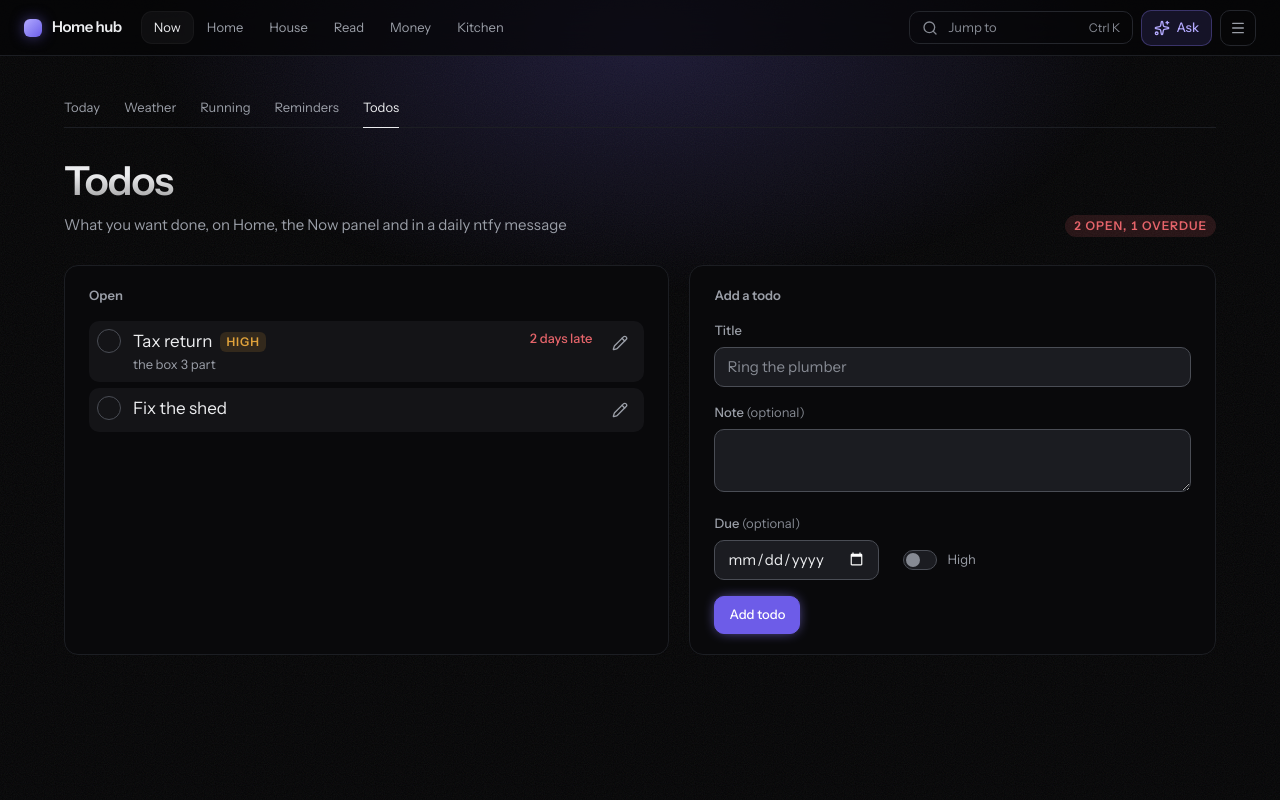
Test: TodosPage › changes a todo and says why a write failed
Click the button named "Change Tax return".
click(620, 343)  # box [604,327,636,359]
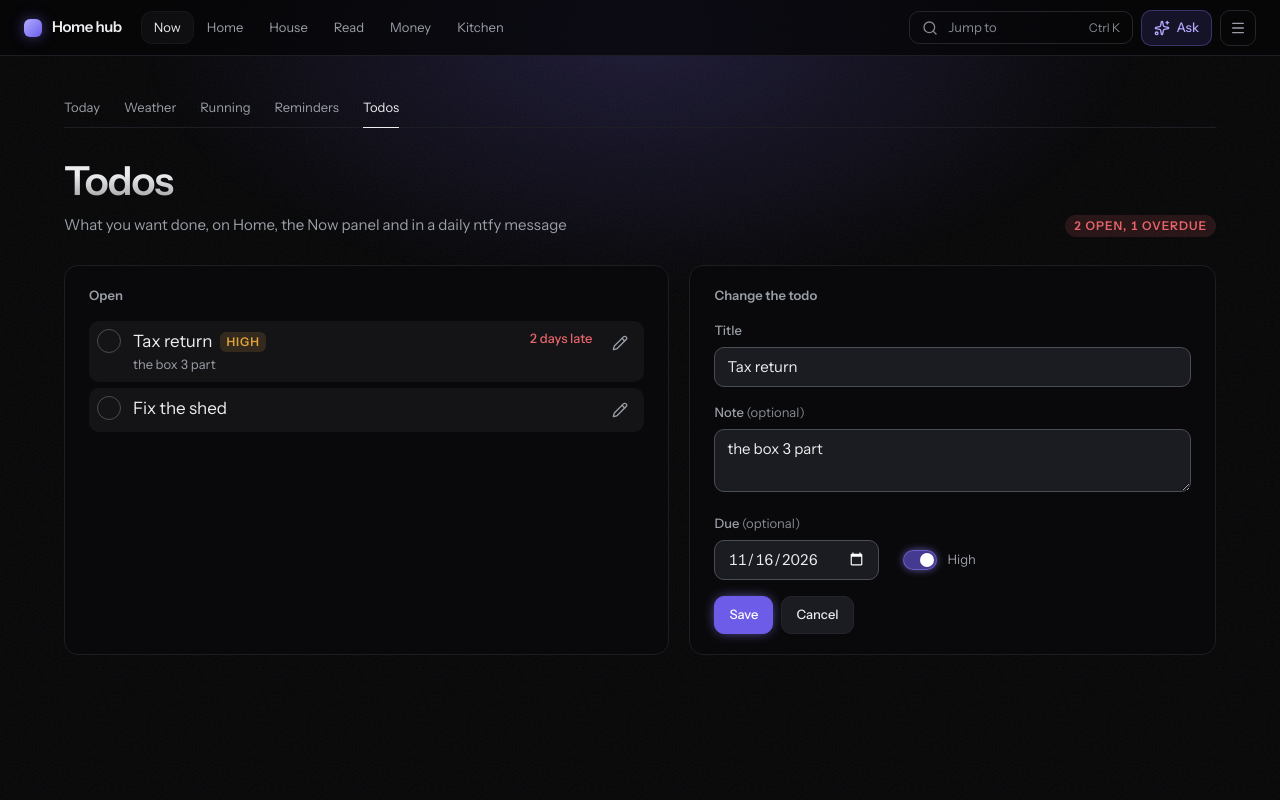
Expected: the field labelled "Title" holds "Tax return", [714,346,1191,387]
Click the switch named "High".
click(920, 560)  # box [904,550,938,570]
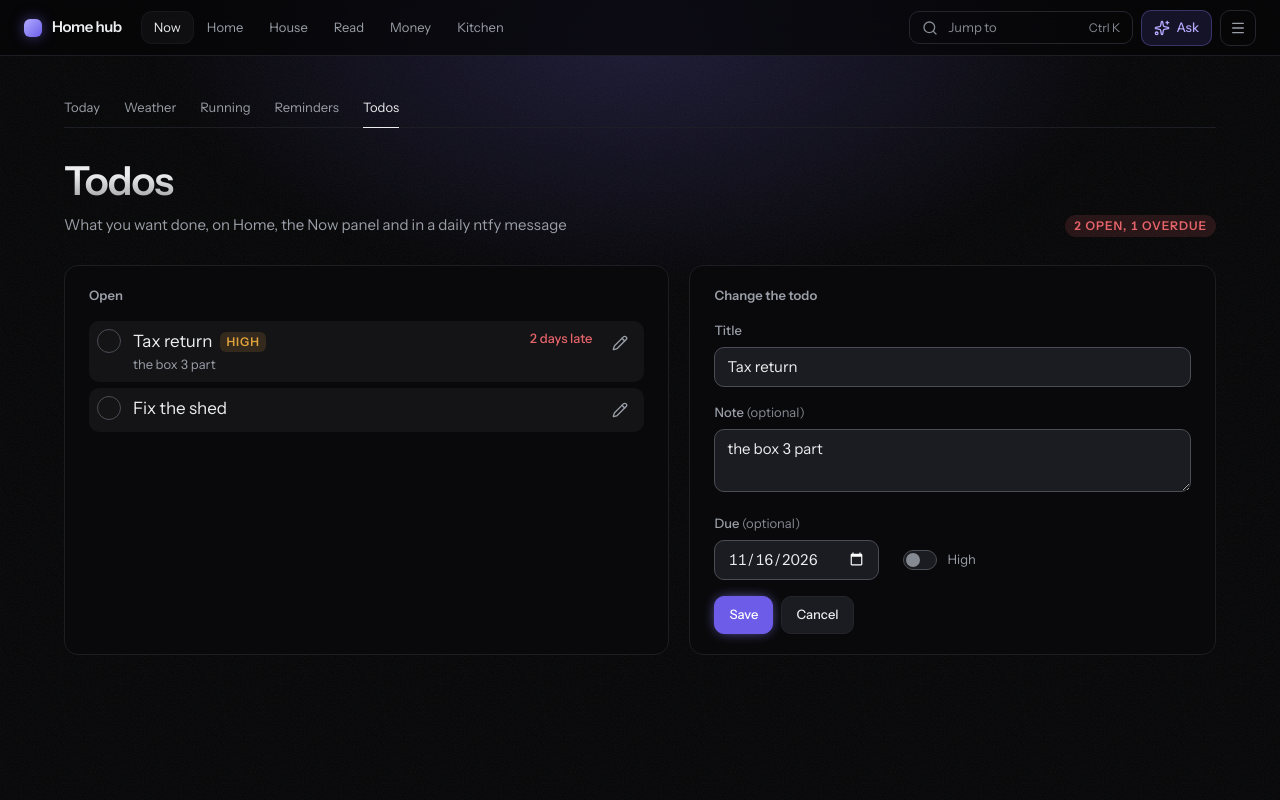
Click the button "Save".
click(744, 615)  # box [714,596,774,634]
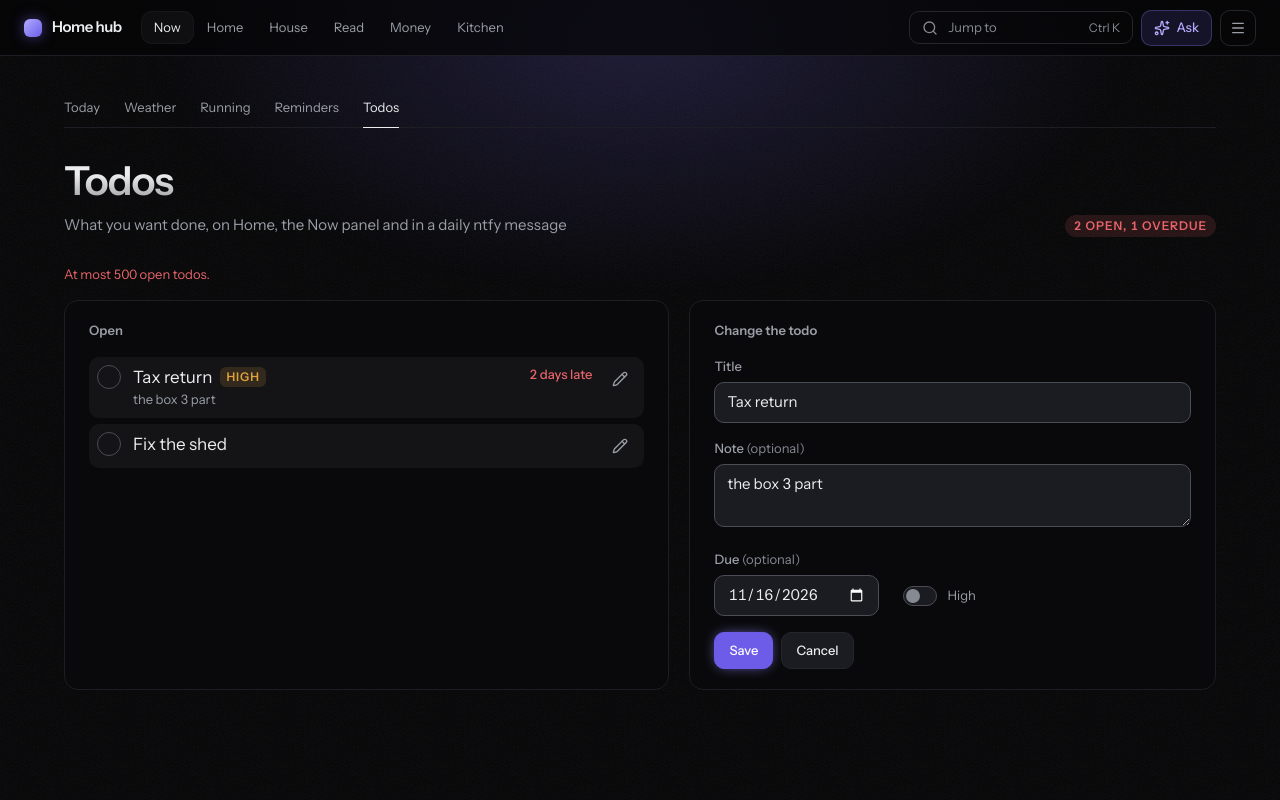
Expected: the text "At most 500 open todos." is shown, [64,266,210,282]
Click the button "Cancel".
click(817, 650)  # box [781,632,854,669]
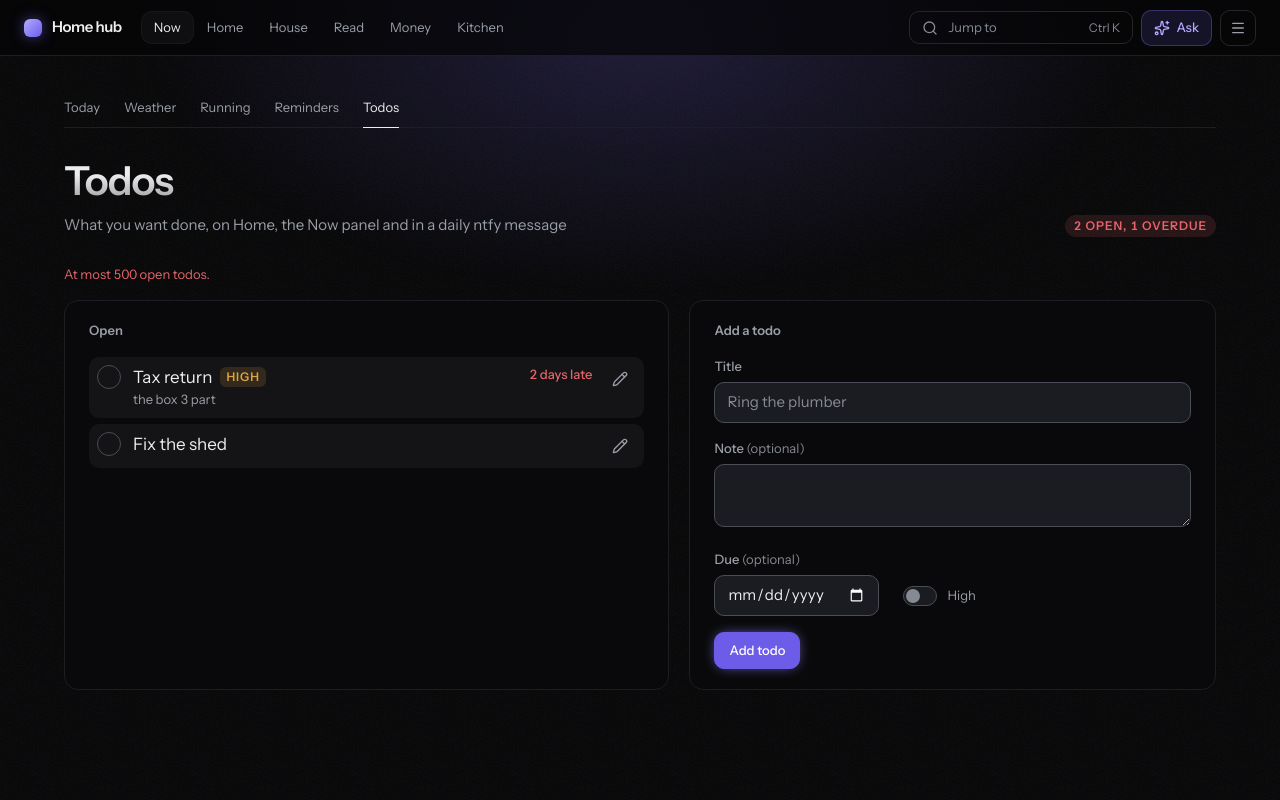
Expected: the form named "Add a todo" is shown, [714,356,1191,669]
